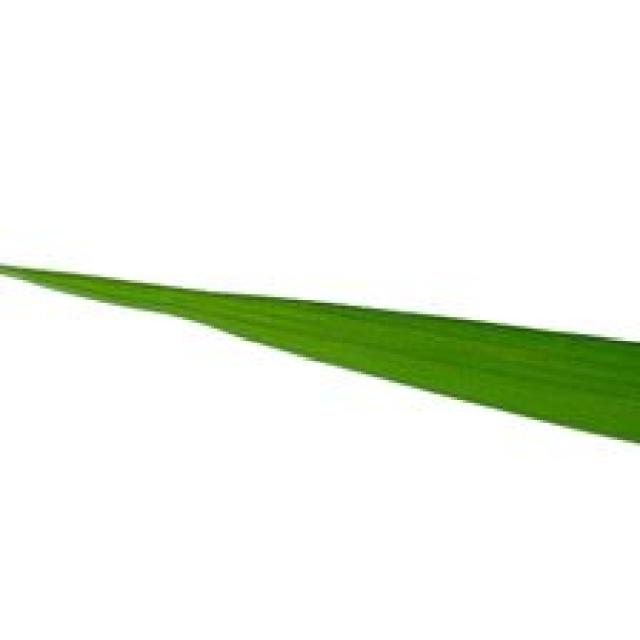Rice___Healthy_Rice_Plant: (0, 269, 637, 450)
